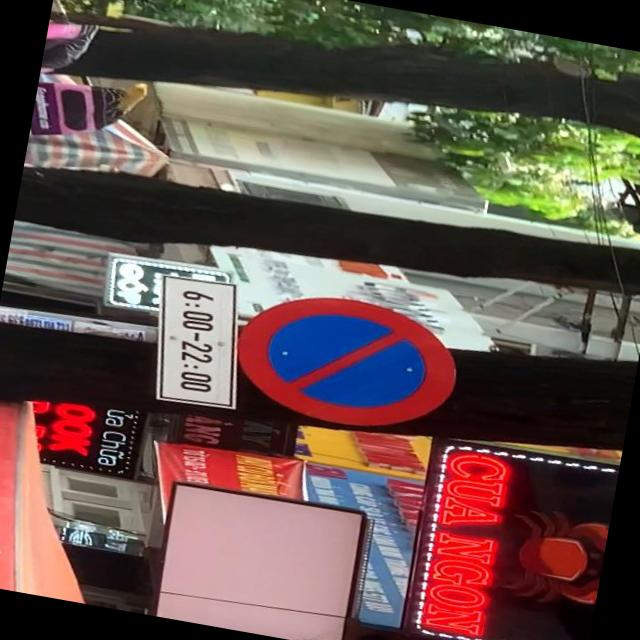P-131a: (228, 282, 467, 442)
